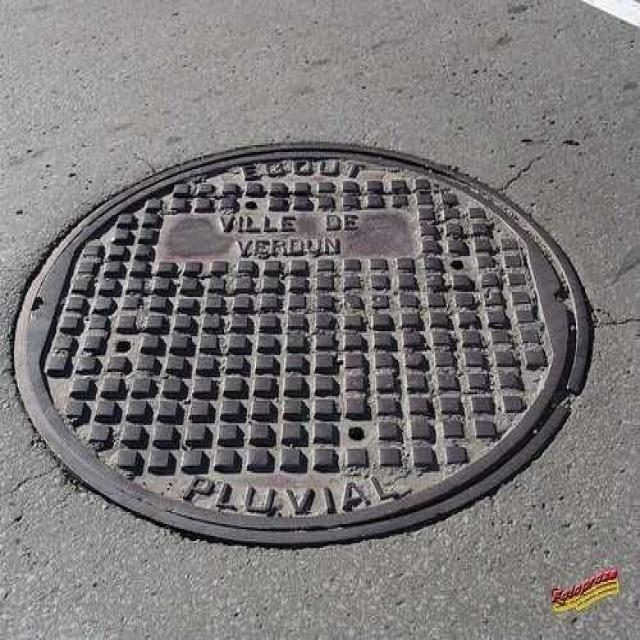manhole: (14, 143, 591, 545)
